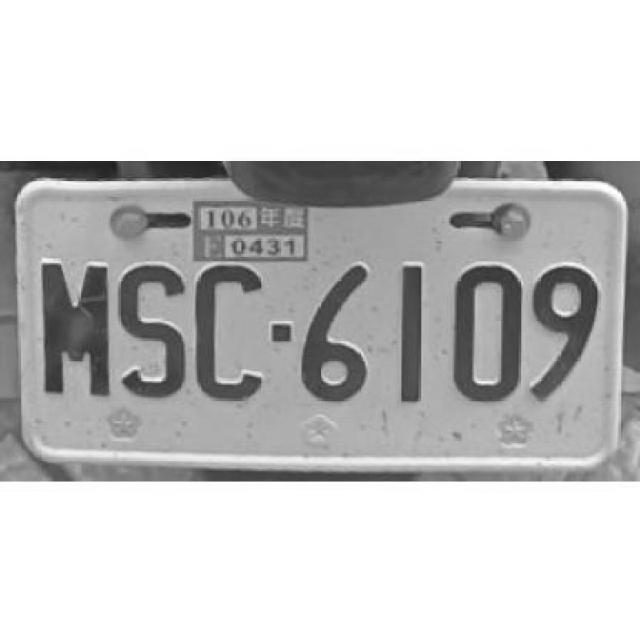-: (269, 320, 294, 343)
0: (449, 253, 525, 404)
1: (400, 258, 425, 402)
6: (301, 258, 374, 400)
9: (532, 259, 602, 403)
C: (194, 262, 263, 398)
M: (40, 257, 112, 395)
S: (117, 260, 185, 397)
